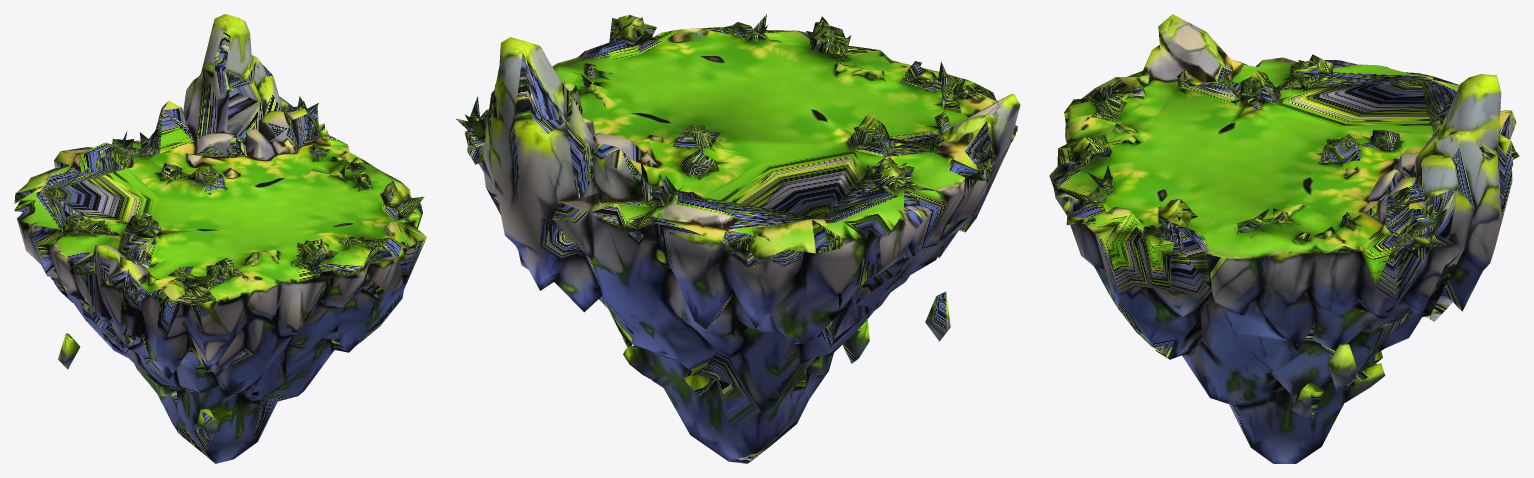
Rendered from Floating_Paradise.glb.
3 renders of one model, left to right at view 1: azimuth 30°, elevation 25°; view 2: azimuth 150°, elevation 25°; view 3: azimuth 270°, elevation 25°, orthographic. The views are drawn at different scales.
Visible parts, largest first — view 1: Floating_Paradise; view 2: Floating_Paradise; view 3: Floating_Paradise.
Part boxes in pixels (x1,y1,x2,y2): Floating_Paradise: [14, 14, 426, 463]; Floating_Paradise: [456, 14, 1020, 463]; Floating_Paradise: [1049, 14, 1519, 463].
Bounding box in the file's own units: 1.85 × 1.89 × 1.83.
1 material, 1 textured.
